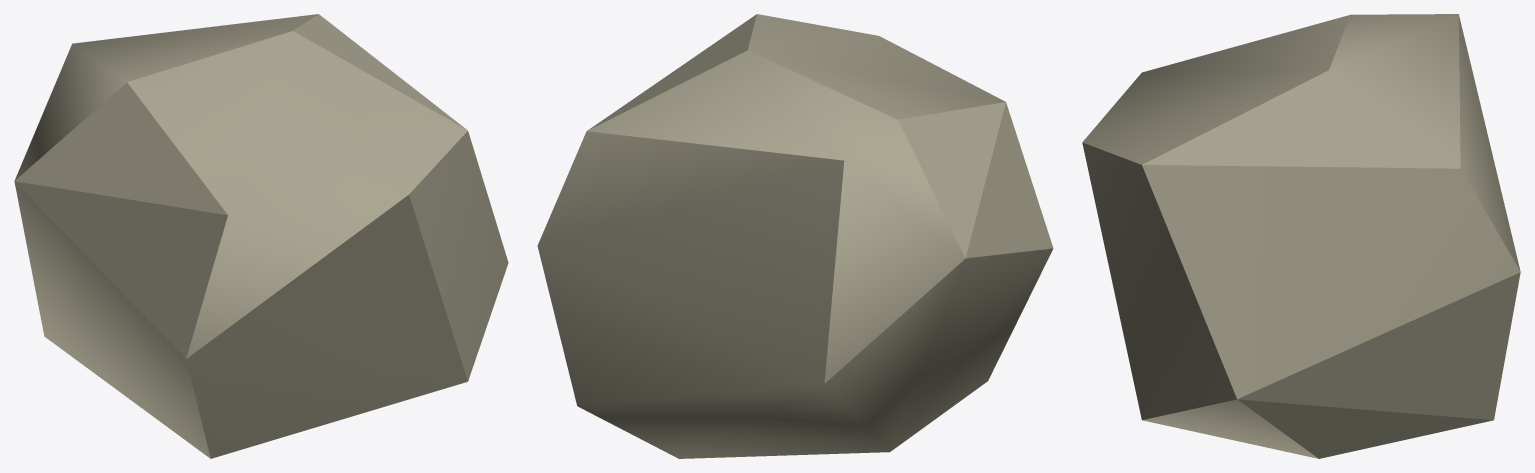
Rendered from stonerock.fbx.
3 renders of one model, left to right at view 1: azimuth 30°, elevation 25°; view 2: azimuth 150°, elevation 25°; view 3: azimuth 270°, elevation 25°, orthographic. The views are drawn at different scales.
Visible parts, largest first — view 1: pCube3; view 2: pCube3; view 3: pCube3.
Boxes of the visible parts, left/top/right/bottom form: pCube3: left=14, top=14, right=508, bottom=458; pCube3: left=537, top=14, right=1053, bottom=458; pCube3: left=1082, top=14, right=1520, bottom=458.
Size of the model in its own units: 13.83 by 11.22 by 12.45.
1 material, 1 textured.
